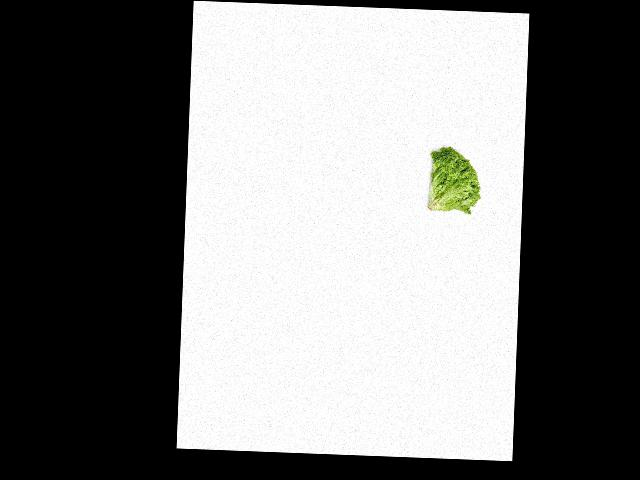lettuce: (421, 142, 486, 217)
